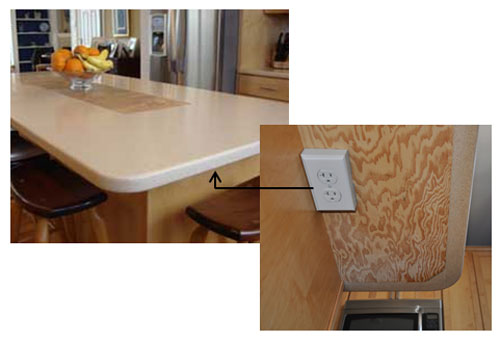outlet: (318, 170, 335, 185), (323, 189, 338, 202)
